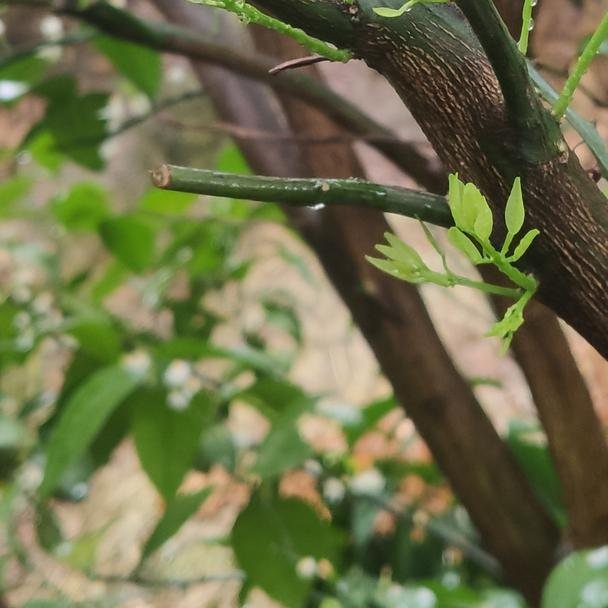shoot: (448, 180, 538, 282), (377, 219, 455, 300), (485, 282, 542, 356)
